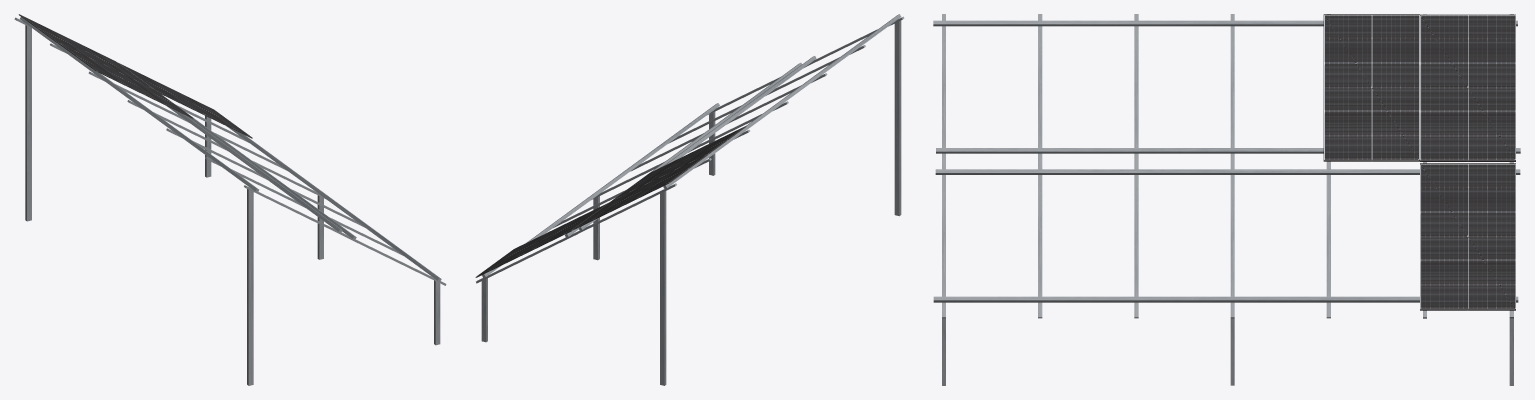
Rendered from solar_panel_ground_3.glb.
3 renders of one model, left to right at view 1: azimuth 30°, elevation 25°; view 2: azimuth 150°, elevation 25°; view 3: azimuth 270°, elevation 25°, orthographic. The views are drawn at different scales.
Parts seen in each view (by area): view 1: konstrukcja_metal.025, konstrukcja_metal.009, konstrukcja_metal.014, panel.006, konstrukcja_metal.001, panel, panel.005, konstrukcja_metal.002, konstrukcja_metal.003, konstrukcja_metal.012; view 2: konstrukcja_metal.025, konstrukcja_metal.009, konstrukcja_metal.014, panel.005, panel, panel.006, konstrukcja_metal.001, konstrukcja_metal.002, konstrukcja_metal.003, konstrukcja_metal.004; view 3: panel.006, panel, panel.005, konstrukcja_metal.001, konstrukcja_metal.003, konstrukcja_metal.014, konstrukcja_metal.002, konstrukcja_metal.019, konstrukcja_metal.018, konstrukcja_metal.020, konstrukcja_metal.010, konstrukcja_metal.007 (+4 smaller).
Part boxes in pixels (bbox=[...]): konstrukcja_metal.025: bbox=[247, 189, 253, 385]; konstrukcja_metal.009: bbox=[25, 25, 31, 221]; konstrukcja_metal.014: bbox=[20, 17, 259, 192]; panel.006: bbox=[57, 42, 193, 118]; konstrukcja_metal.001: bbox=[226, 126, 441, 281]; panel: bbox=[117, 62, 252, 138]; panel.005: bbox=[18, 14, 152, 88]; konstrukcja_metal.002: bbox=[167, 106, 342, 232]; konstrukcja_metal.003: bbox=[168, 99, 356, 239]; konstrukcja_metal.012: bbox=[434, 280, 440, 345]; konstrukcja_metal.025: bbox=[894, 20, 901, 216]; konstrukcja_metal.009: bbox=[660, 191, 666, 385]; konstrukcja_metal.014: bbox=[663, 14, 901, 189]; panel.005: bbox=[573, 154, 707, 229]; panel: bbox=[475, 202, 609, 277]; panel.006: bbox=[612, 126, 746, 200]; konstrukcja_metal.001: bbox=[482, 103, 719, 278]; konstrukcja_metal.002: bbox=[578, 56, 816, 230]; konstrukcja_metal.003: bbox=[565, 63, 801, 237]; konstrukcja_metal.004: bbox=[481, 278, 487, 342]; panel.006: bbox=[1323, 14, 1419, 161]; panel: bbox=[1420, 163, 1515, 310]; panel.005: bbox=[1420, 14, 1515, 161]; konstrukcja_metal.001: bbox=[933, 296, 1518, 302]; konstrukcja_metal.003: bbox=[935, 169, 1520, 174]; konstrukcja_metal.014: bbox=[933, 20, 1517, 26]; konstrukcja_metal.002: bbox=[936, 148, 1520, 153]; konstrukcja_metal.019: bbox=[1134, 14, 1138, 168]; konstrukcja_metal.018: bbox=[1230, 14, 1234, 168]; konstrukcja_metal.020: bbox=[1038, 14, 1042, 168]; konstrukcja_metal.010: bbox=[1134, 168, 1138, 318]; konstrukcja_metal.007: bbox=[1326, 168, 1330, 318].
Bounding box in the file's own units: 6.8 × 6.68 × 13.84.
Materials: 2 (2 with a texture image).
